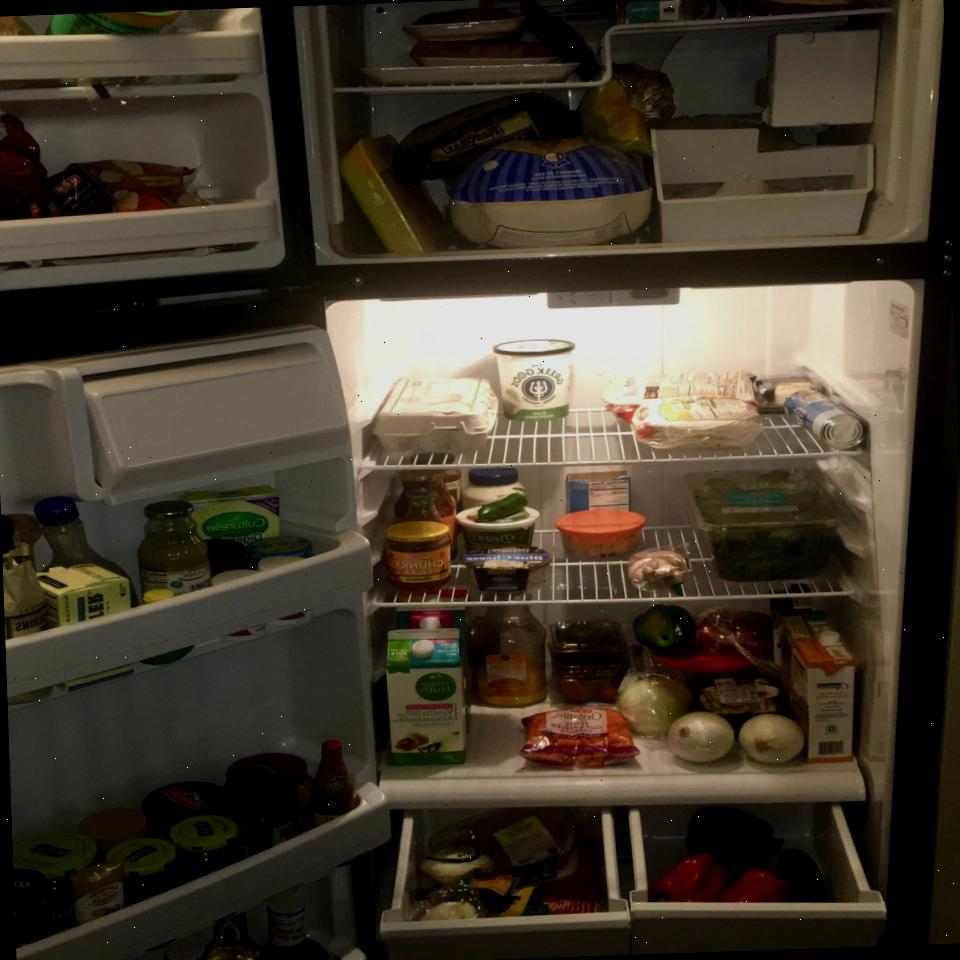Huevos: (370, 375, 502, 456)
Mantequilla: (34, 562, 135, 693)
Pepino: (780, 846, 832, 904)
Tomate: (554, 663, 629, 704)
Yogur: (494, 338, 578, 422)
Zanahoria: (520, 706, 640, 770)
bell pepper: (648, 852, 728, 904), (631, 602, 699, 655), (723, 867, 791, 905)
blueberries: (548, 618, 626, 666)
mayonnaise: (460, 465, 526, 510)
